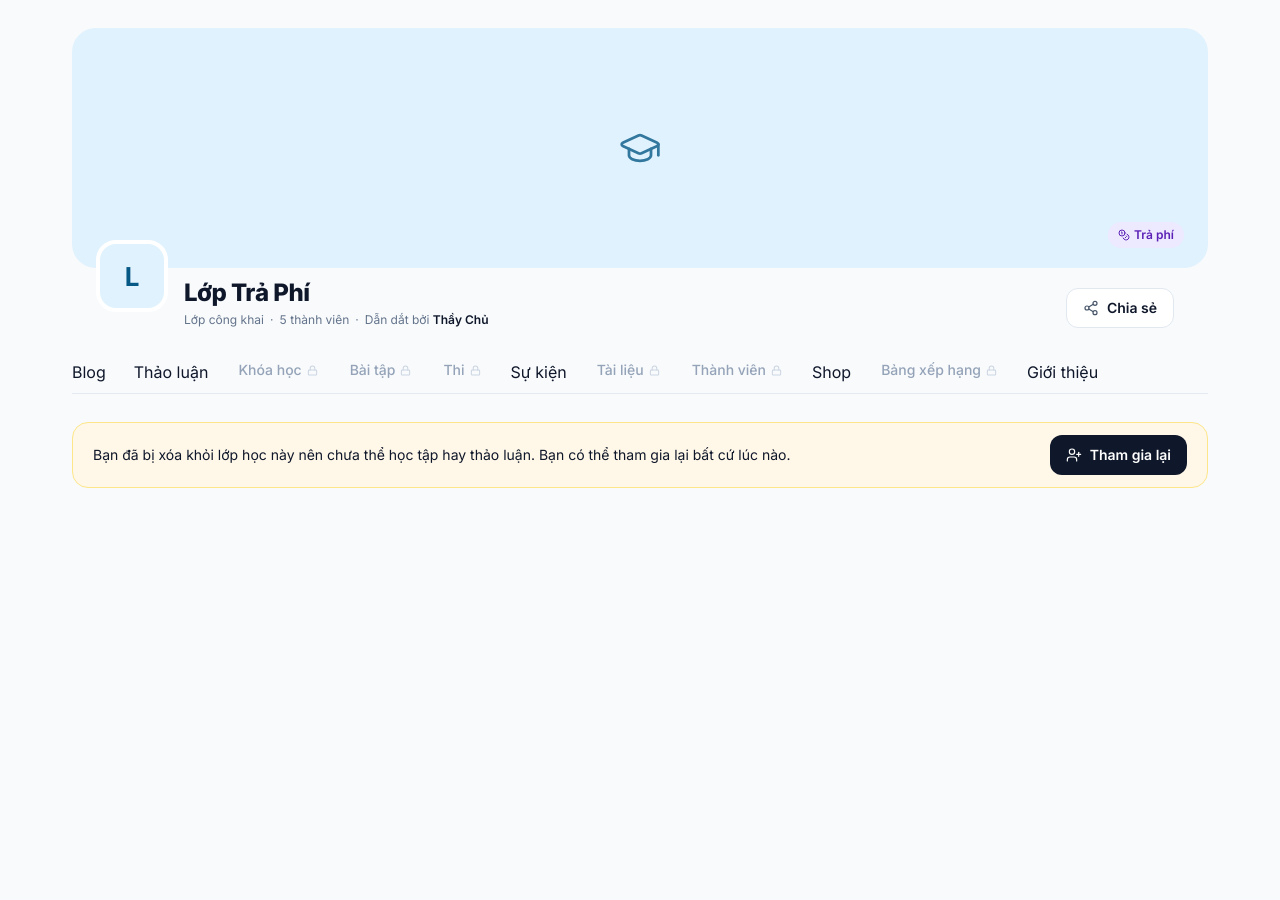
ClassroomLayout - joining a class that turned out to be paid › a REMOVED person who presses "Tham gia lại" on a PAID class is sent to checkout with the product from the 402
Click the button "Tham gia lại" at (1118, 455), box [1050, 435, 1187, 475]
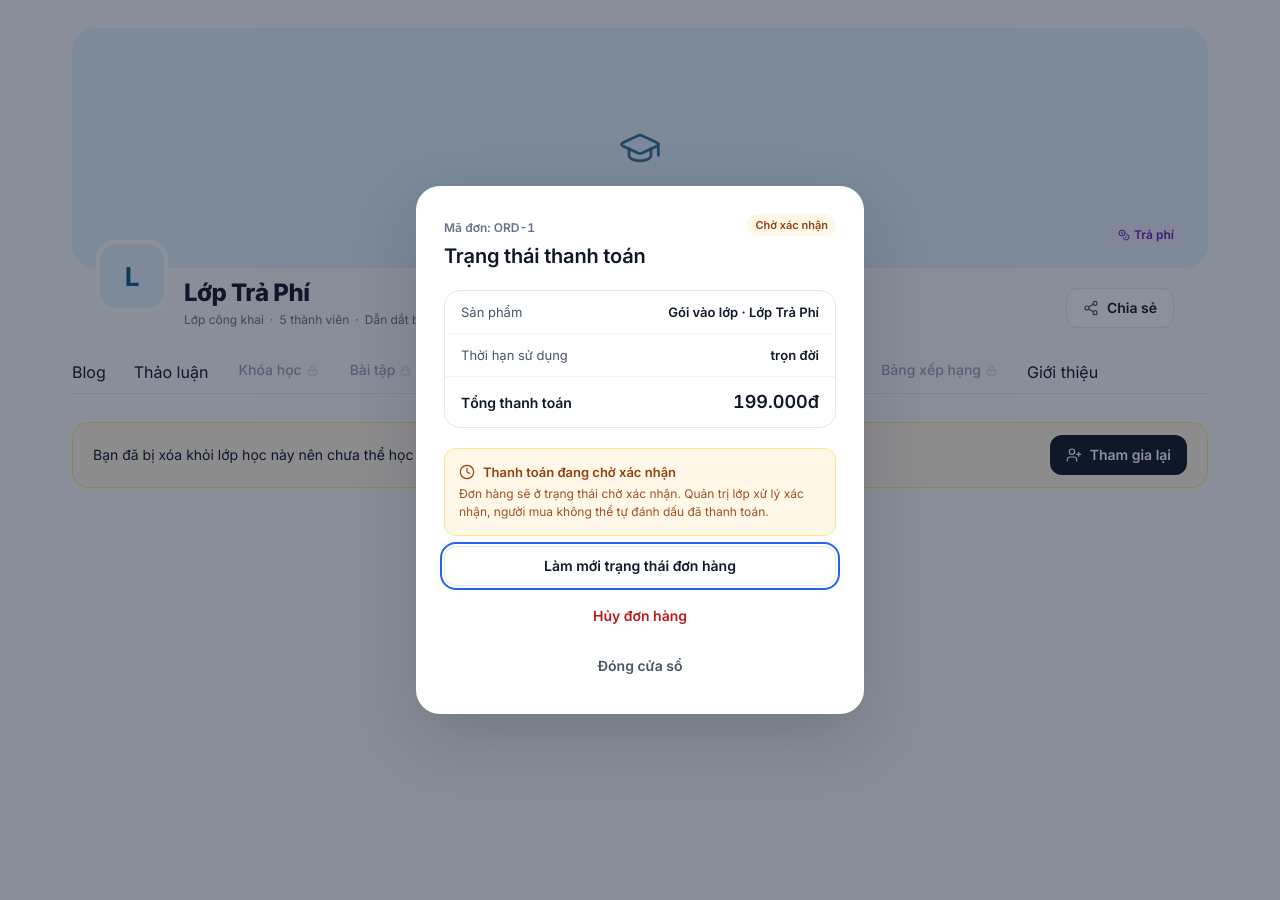
expect the dialog "Trạng thái thanh toán" is shown: met, box [416, 186, 864, 714]
